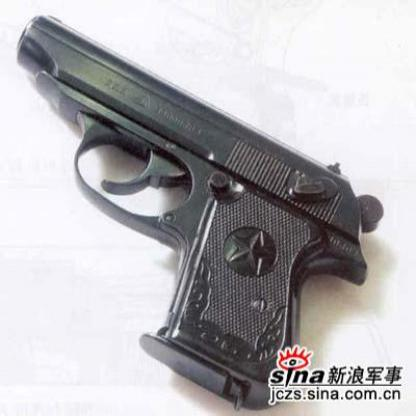pistol: (12, 13, 382, 406)
